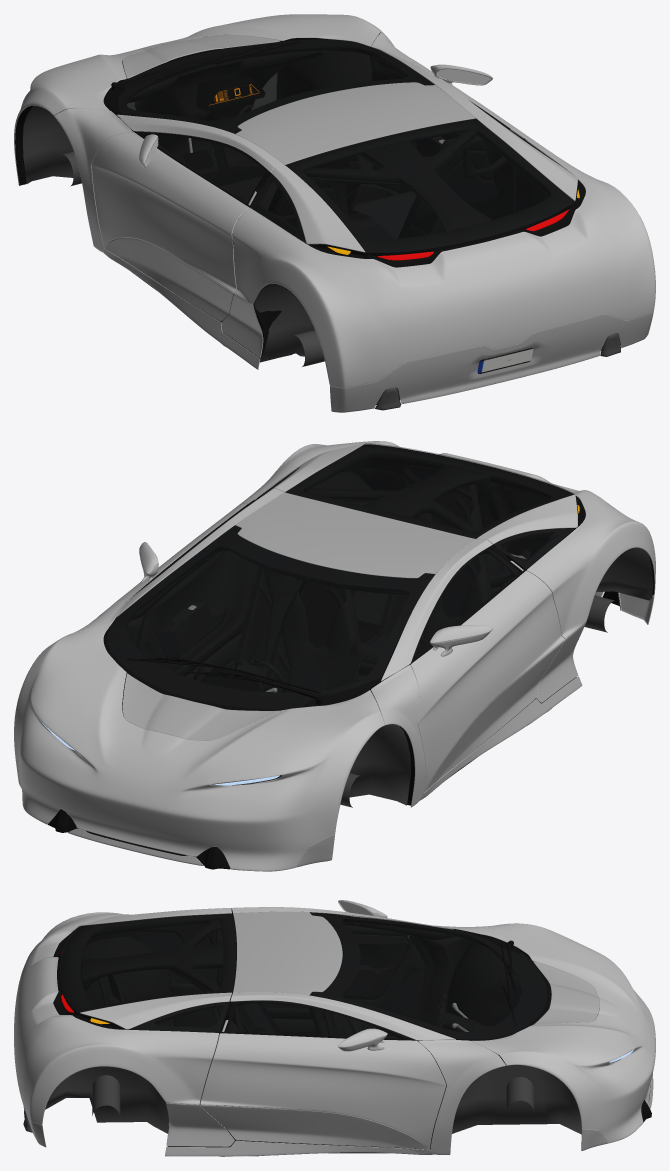
File: Body_Pearl.glb
The picture shows the model from 3 angles, top to bottom: view 1: azimuth 30°, elevation 25°; view 2: azimuth 150°, elevation 25°; view 3: azimuth 270°, elevation 25°; orthographic projection. The views are drawn at different scales.
Parts seen in each view (by area): view 1: BodyRearPanelsColor1, BodyRearwindow, BodyWindshield, BodyPanelsColor2, BodyDoorLColor1, BodyRoofPanel, BodyHood, InteriorRearHatch, BodyPillars, InteriorPillar, BodyUnderside, InteriorDashMid (+20 smaller); view 2: BodyHood, BodyWindshield, BodyRearwindow, BodyDoorLColor1, BodyRearPanelsColor1, BodyRoofPanel, BodyWindshieldGasket, InteriorSeatsColor2, InteriorSeatsFrame1, BodyPillars, InteriorDoorR01, InteriorPillar (+19 smaller); view 3: BodyWindshield, BodyRearPanelsColor1, BodyDoorRColor1, BodyHood, BodyRearwindow, BodyUnderside, BodyRoofPanel, BodyPillars, BodyWindshieldGasket, InteriorFloor, BodyDoorRColor2, BodyPanelsColor2 (+19 smaller).
Boxes of the visible parts, x1,y1,x2,y2 form: BodyRearPanelsColor1: (232, 115, 655, 388); BodyRearwindow: (285, 118, 574, 252); BodyWindshield: (118, 39, 434, 133); BodyPanelsColor2: (15, 160, 653, 412); BodyDoorLColor1: (91, 131, 249, 293); BodyRoofPanel: (236, 82, 475, 164); BodyHood: (14, 14, 383, 159); InteriorRearHatch: (272, 119, 574, 257); BodyPillars: (54, 32, 490, 252); InteriorPillar: (241, 120, 491, 231); BodyUnderside: (23, 105, 620, 410); InteriorDashMid: (126, 47, 329, 166); BodyHood: (14, 626, 384, 871); BodyWindshield: (107, 525, 434, 708); BodyRearwindow: (286, 443, 574, 538); BodyDoorLColor1: (411, 570, 564, 791); BodyRearPanelsColor1: (238, 441, 655, 638); BodyRoofPanel: (235, 492, 475, 578); BodyWindshieldGasket: (103, 526, 434, 710); InteriorSeatsColor2: (195, 505, 488, 692); InteriorSeatsFrame1: (230, 484, 491, 778); BodyPillars: (68, 488, 492, 807); InteriorDoorR01: (140, 506, 259, 676); InteriorPillar: (233, 464, 511, 596); BodyWindshield: (310, 912, 546, 1038); BodyRearPanelsColor1: (14, 908, 231, 1124); BodyDoorRColor1: (200, 1033, 446, 1149); BodyHood: (472, 923, 655, 1143); BodyRearwindow: (60, 913, 235, 1012); BodyUnderside: (23, 1063, 581, 1134); BodyRoofPanel: (233, 911, 342, 995); BodyPillars: (230, 907, 505, 1154); BodyWindshieldGasket: (310, 913, 551, 1040); InteriorFloor: (81, 936, 650, 1153); BodyDoorRColor2: (200, 1105, 428, 1149); BodyPanelsColor2: (14, 1054, 653, 1156).
Bounding box in the file's own units: 2.34 × 1.06 × 4.36.
Materials: 16 (2 with a texture image).
